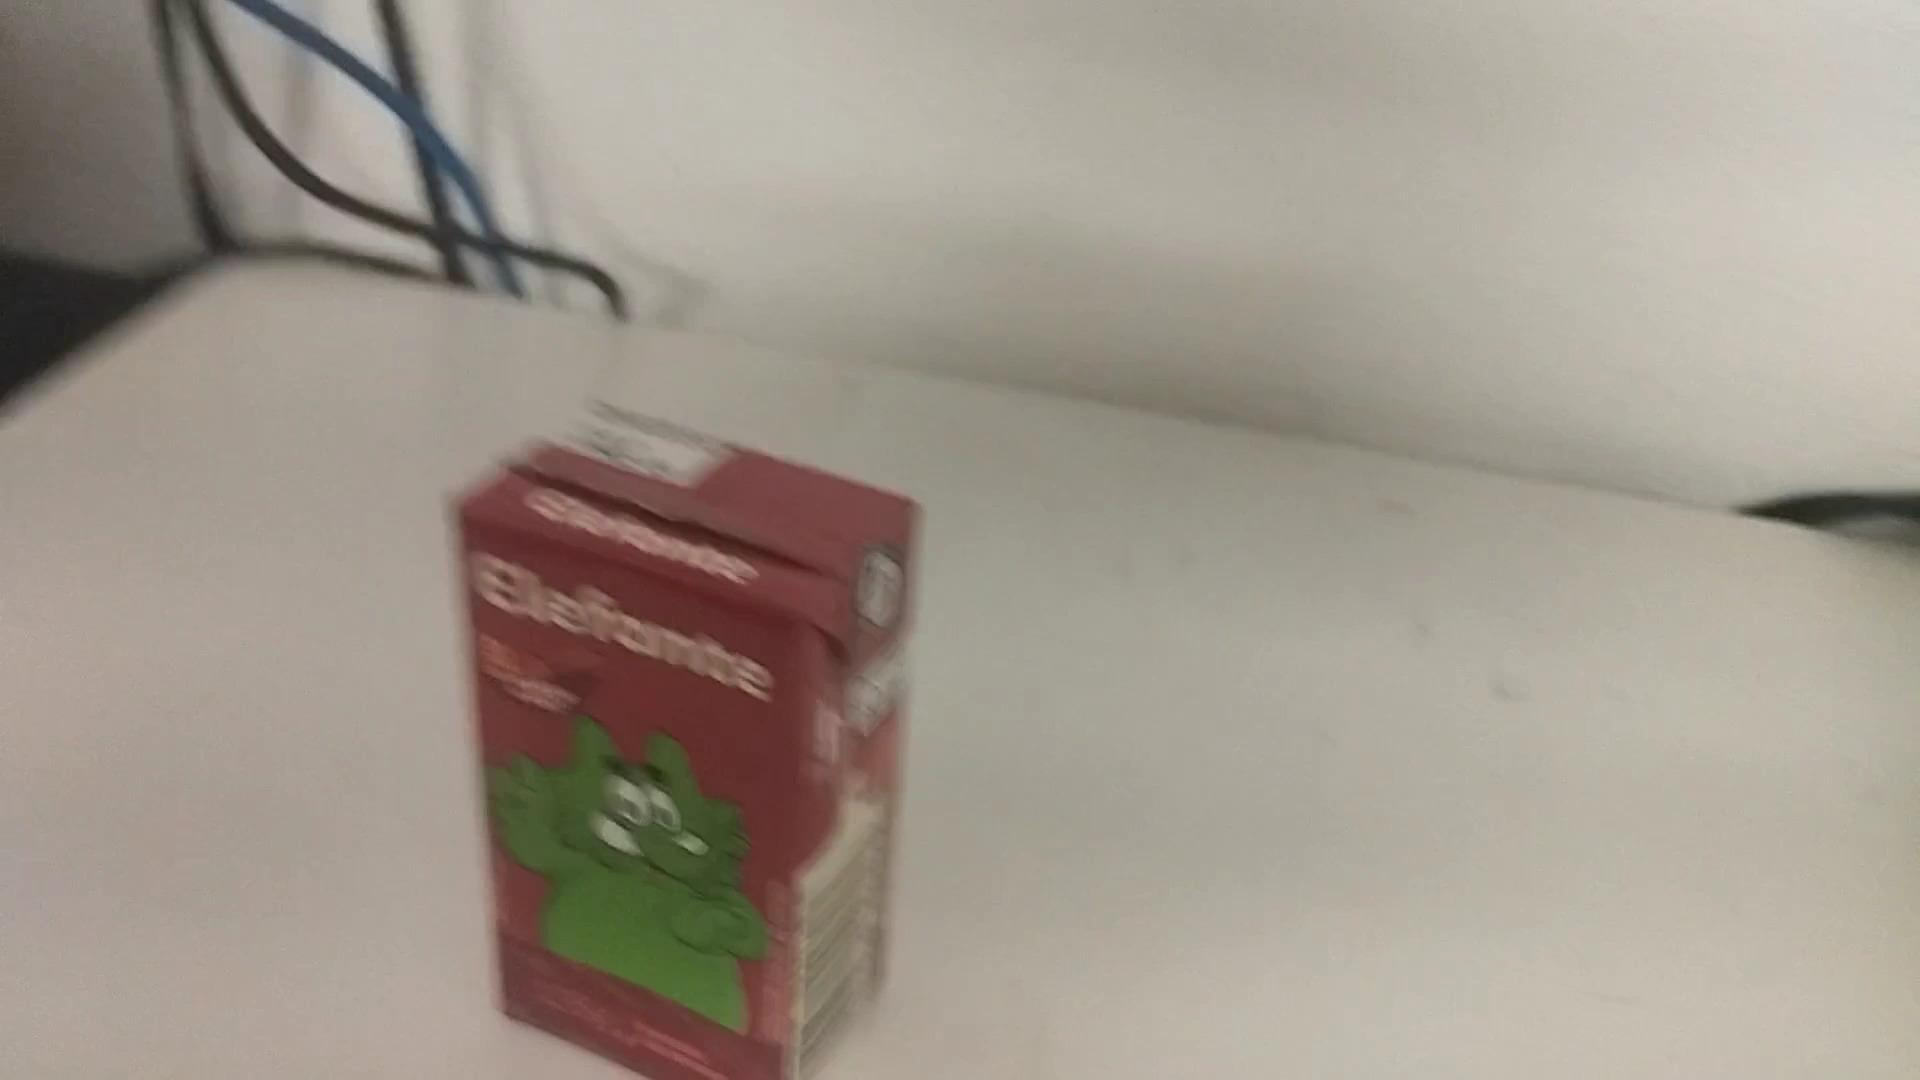tomate: (434, 396, 926, 1079)
